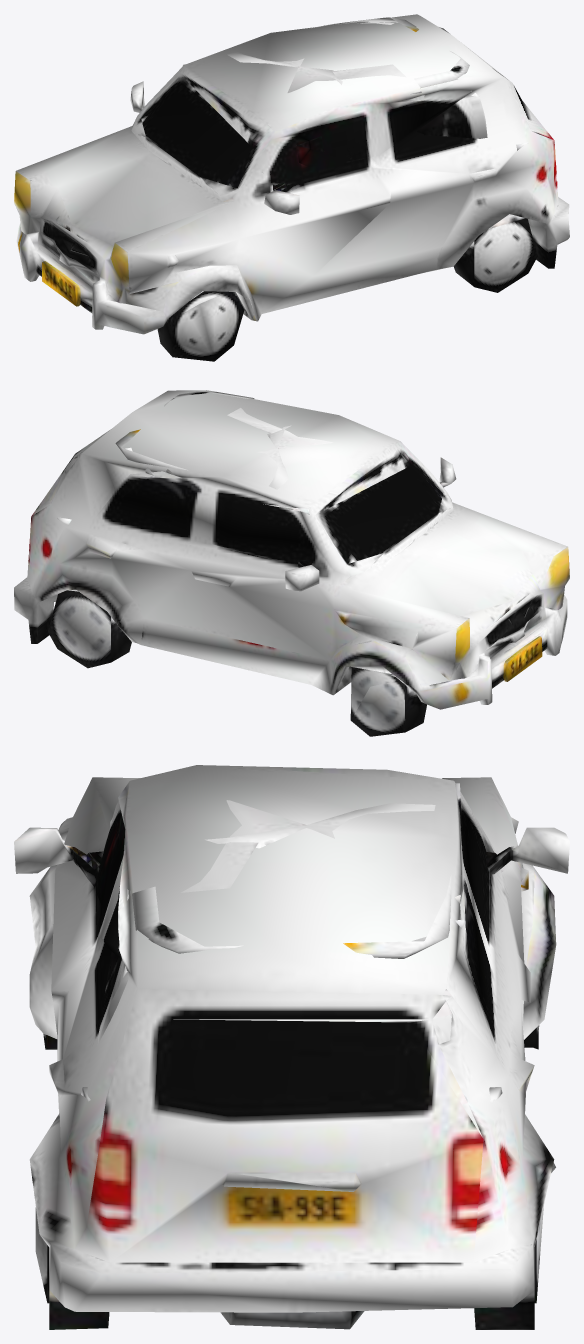
File: car2.glb
3 views of the same model, one above another, from view 1: azimuth 30°, elevation 25°; view 2: azimuth 150°, elevation 25°; view 3: azimuth 270°, elevation 25° (orthographic). The views are drawn at different scales.
Size of the model in its own units: 1.89 by 0.8024 by 1.11.
1 material, 1 textured.
